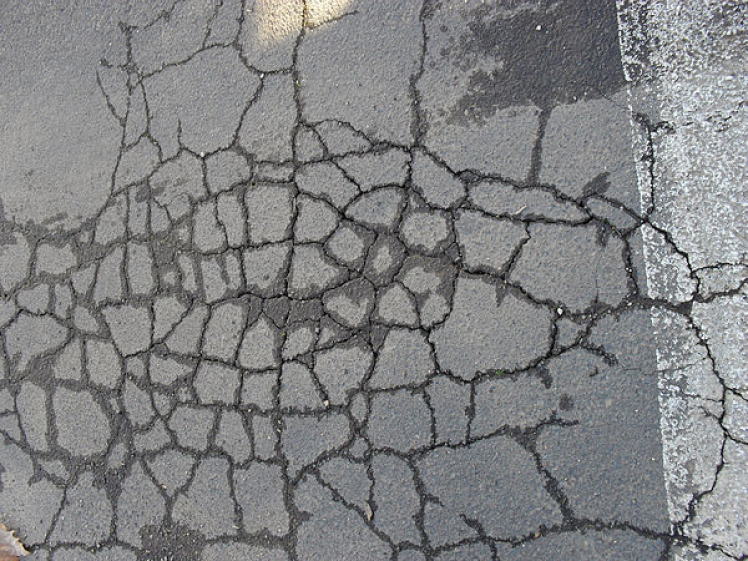Retak Buaya: (101, 177, 746, 561), (96, 5, 524, 183), (3, 194, 124, 552), (609, 90, 693, 211)
